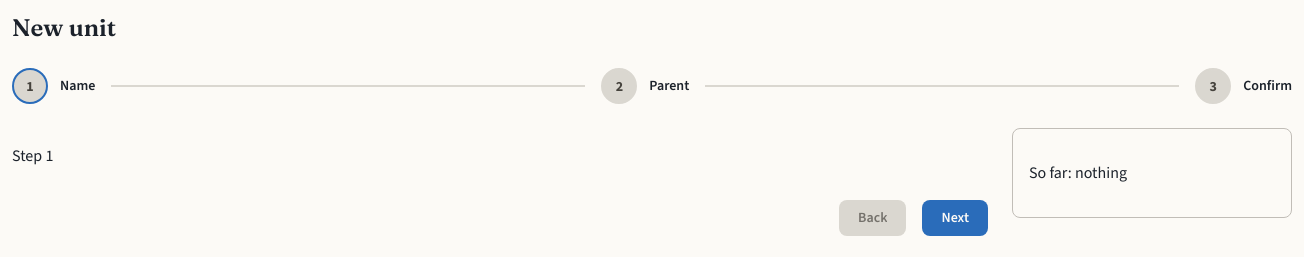
Test: the wizard template › walks the steps with back and next, and says finish on the last one [ADR-0027]
The image size is (1304, 257).
expect the button "Back" is disabled: met, box [839,200,906,236]
expect the element named "What you have entered" reads "So far: nothing": met, box [1029,162,1127,183]
Click the button "Next": (955, 218) [922,200,988,236]
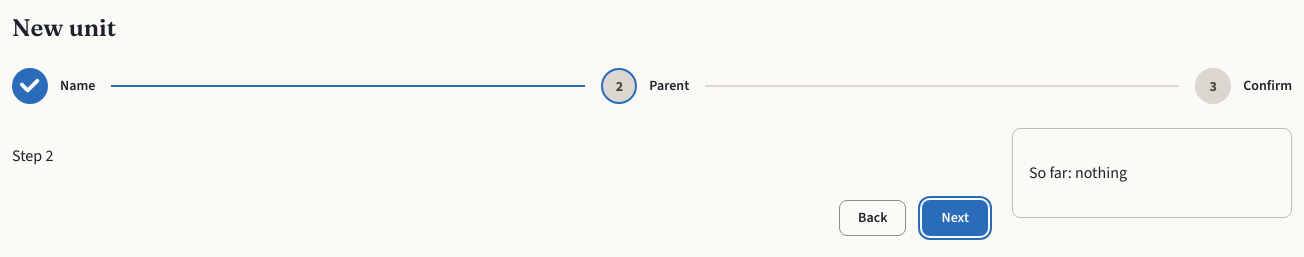
Click the button "Next": (955, 218) [922,200,988,236]
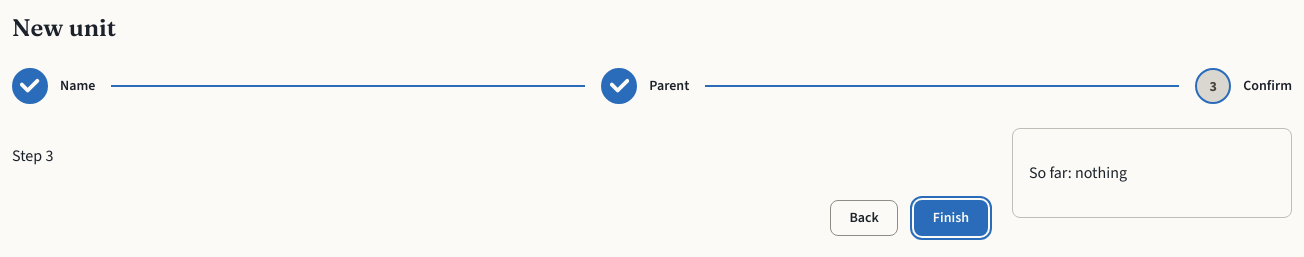
expect the text "Step 3" is shown: met, box [12,145,53,166]
expect the button "Finish" is shown: met, box [914,200,988,236]
Click the button "Back": (864, 218) [830,200,898,236]
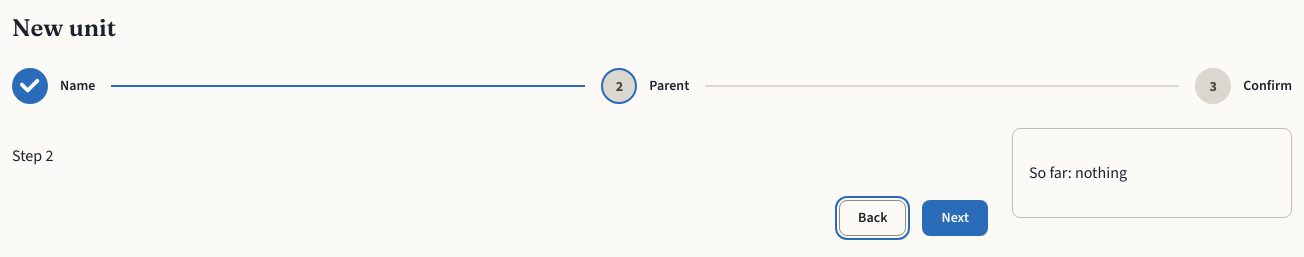
expect the text "Step 2" is shown: met, box [12,145,53,166]
